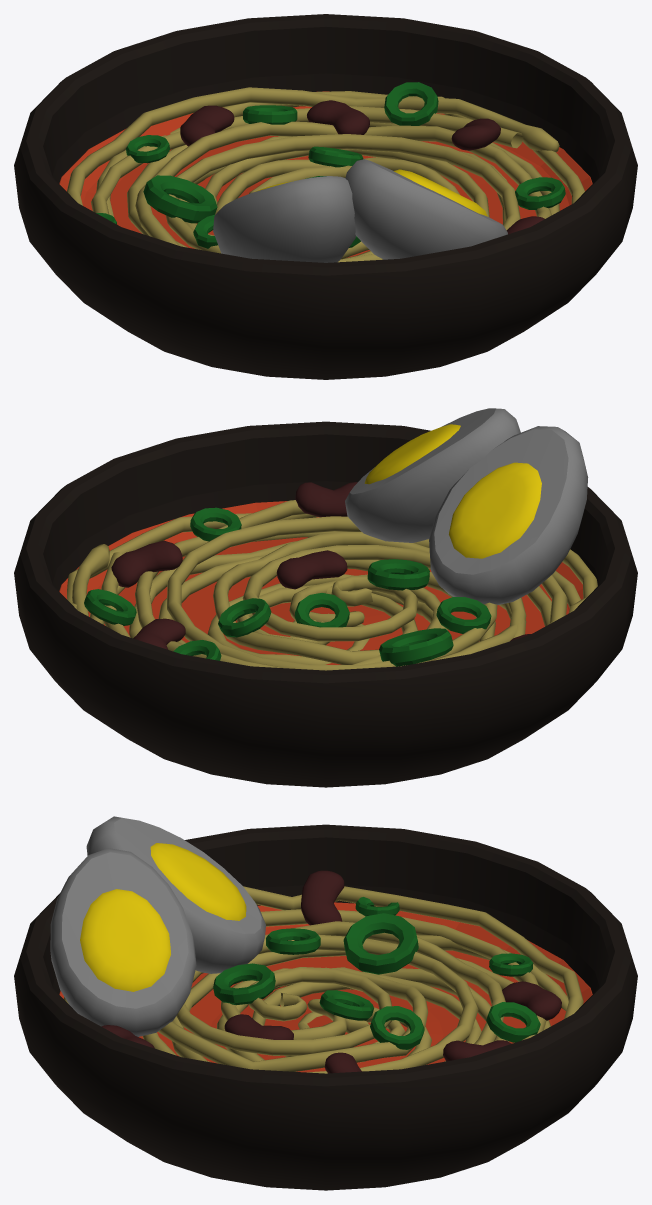
The model's file is Noodles_1.FBX.
3 renders of one model, top to bottom at view 1: azimuth 30°, elevation 25°; view 2: azimuth 150°, elevation 25°; view 3: azimuth 270°, elevation 25°, orthographic.
Visible parts, largest first — view 1: Noodles_1; view 2: Noodles_1; view 3: Noodles_1.
Part boxes in pixels (box(x1,y1,x2,y2)): Noodles_1: box(14, 14, 637, 379); Noodles_1: box(14, 408, 637, 787); Noodles_1: box(14, 816, 637, 1190).
Bounding box in the file's own units: 992 × 992 × 450.
